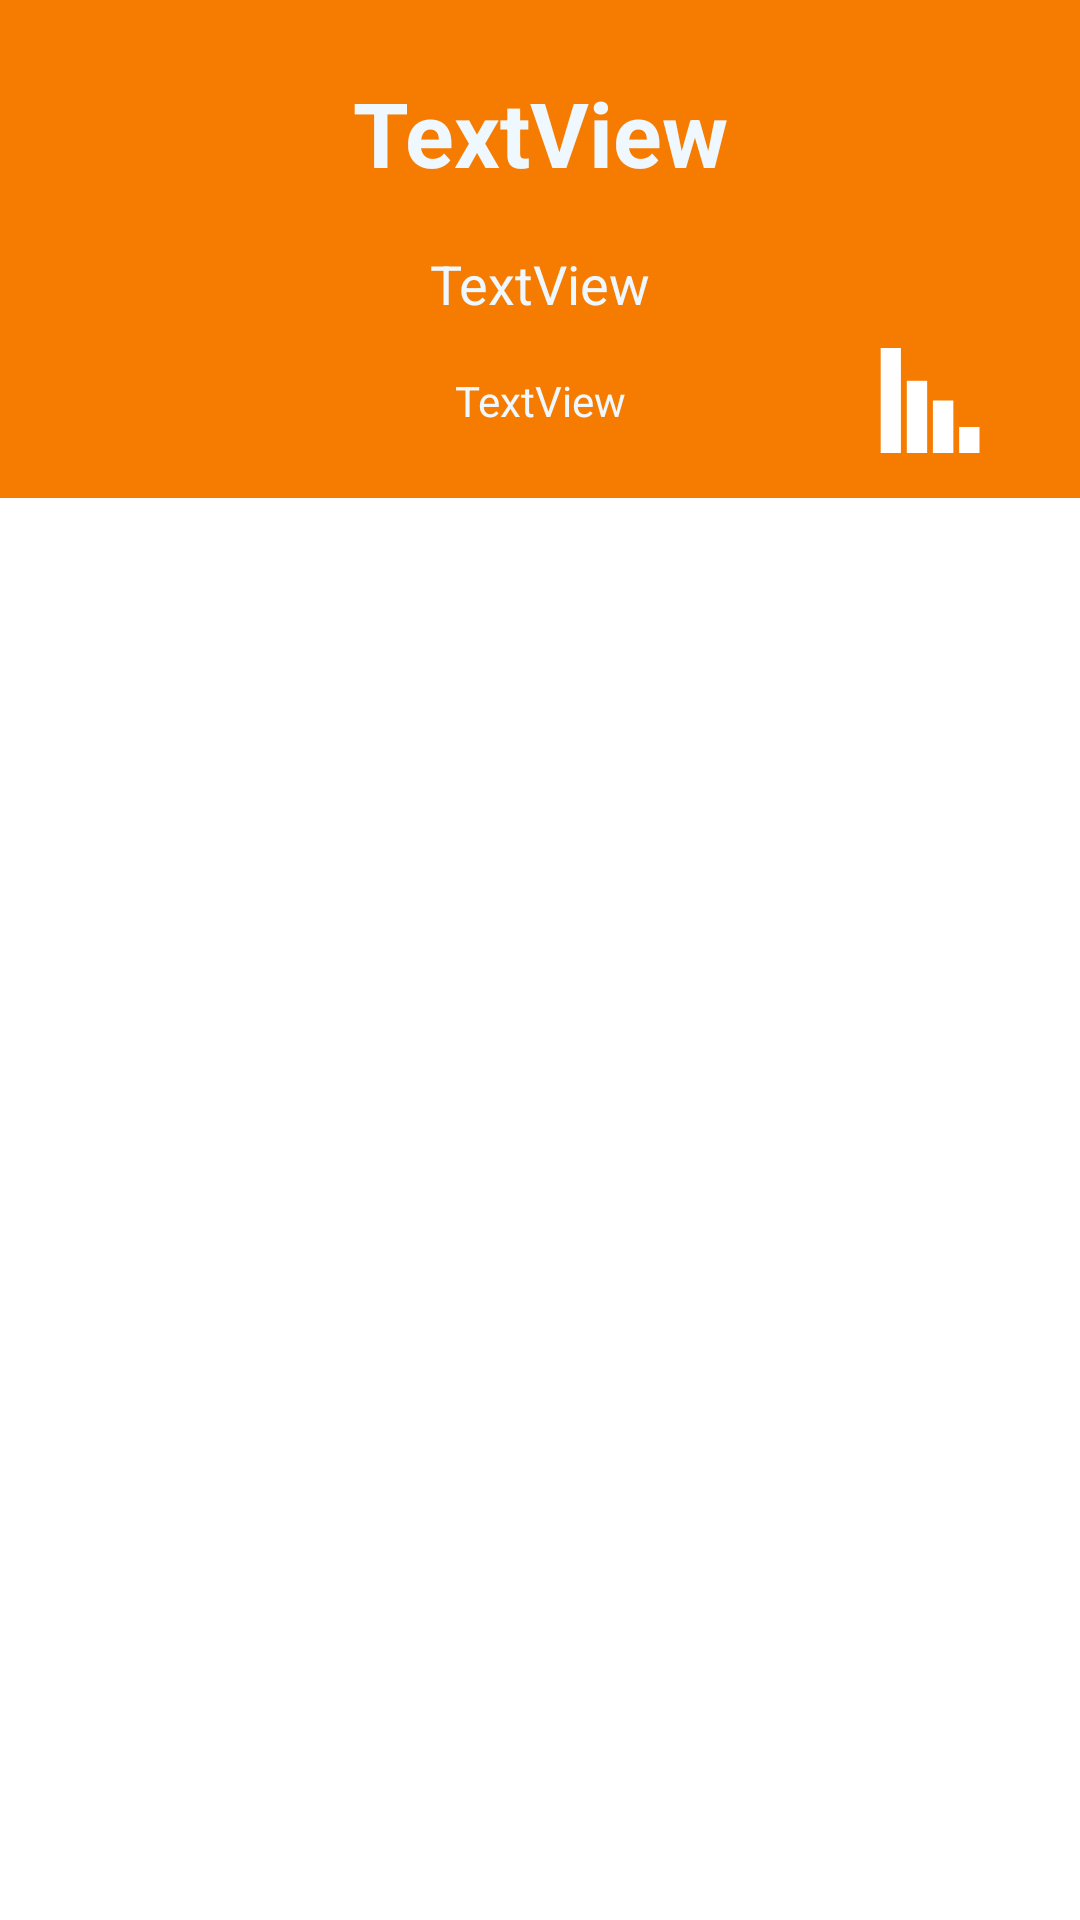

Screen size 1080×1920. Icon name, then its box in pixels as (x1, y1, x2, y2):
analysis: (880, 348, 980, 453)
